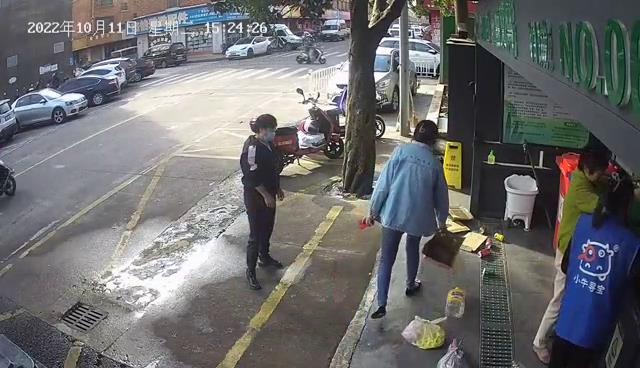lvzhipin: (478, 248, 489, 258), (494, 233, 505, 241), (486, 237, 493, 248)
person: (531, 141, 612, 368), (239, 112, 286, 291)
suliaozhipin: (401, 314, 447, 350), (435, 337, 465, 368), (445, 285, 466, 320)
worker: (359, 120, 450, 320), (548, 179, 639, 368)
zhizhipin: (421, 230, 467, 275), (446, 205, 488, 254)
